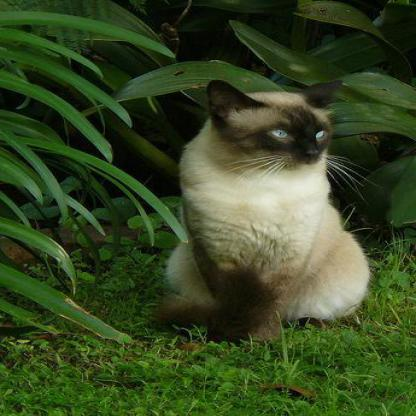cat: (157, 79, 370, 343)
